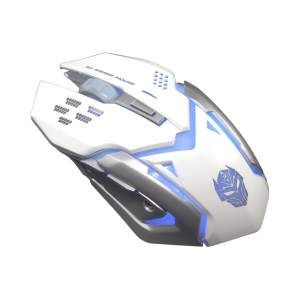Mouse: (21, 47, 272, 253)
